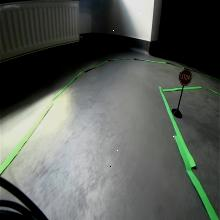stop: (178, 67, 192, 88)
